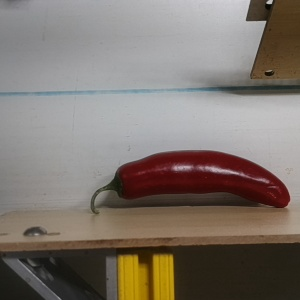Cut Point: (107, 160, 136, 203)
